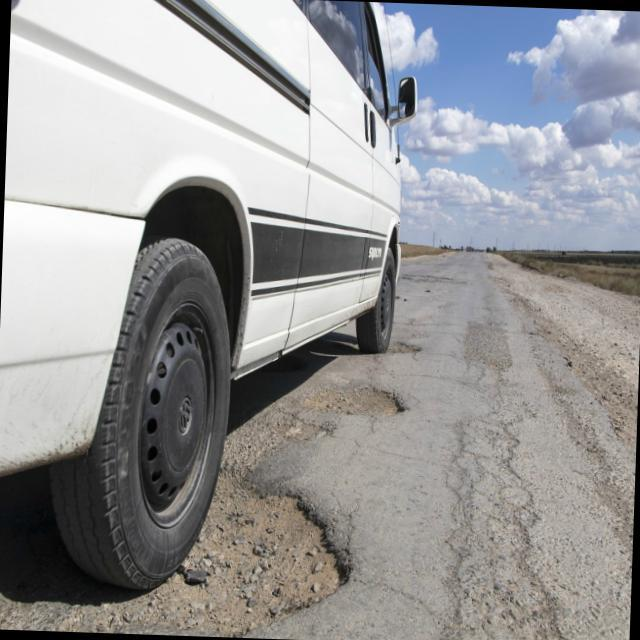Pothole: (163, 469, 370, 636), (297, 371, 405, 438), (370, 333, 428, 361)
